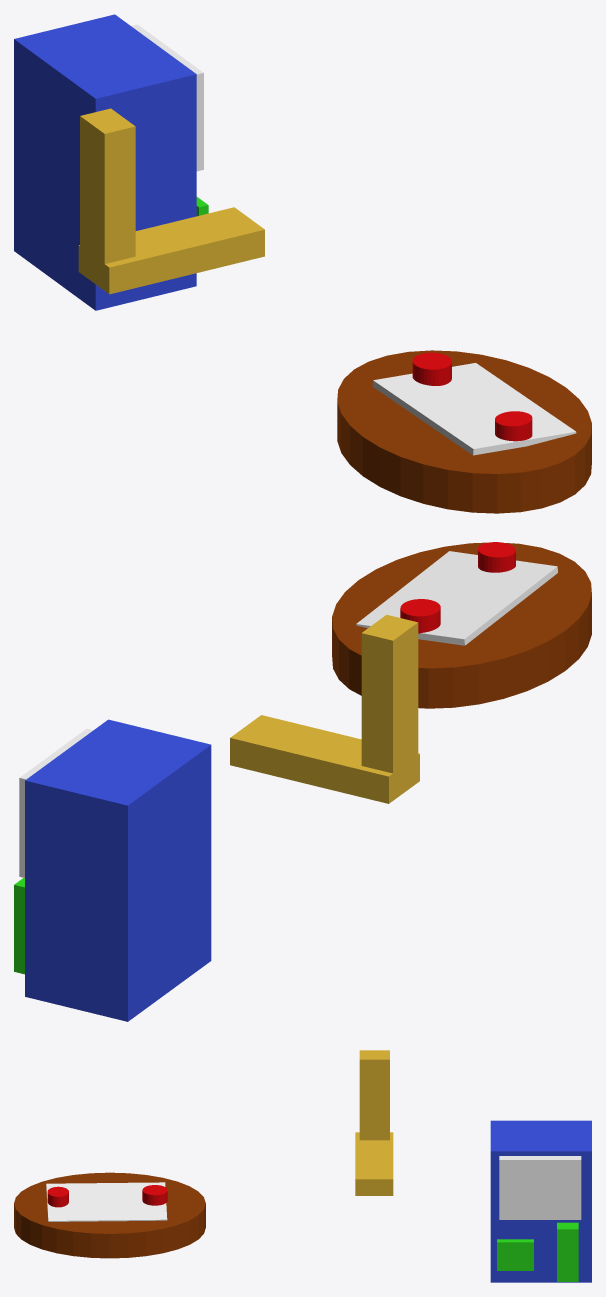
Rendered from Hockey Table Arcade Arden.fbx.
3 views of the same model, one above another, from view 1: azimuth 30°, elevation 25°; view 2: azimuth 150°, elevation 25°; view 3: azimuth 270°, elevation 25° (orthographic). The views are drawn at different scales.
Visible parts, largest first — view 1: Cube.002, Cylinder, Cube.001, Cube.006, Cube, Cube.003, Cylinder.002, Cylinder.001; view 2: Cube.002, Cylinder, Cube.001, Cube, Cube.006, Cube.003, Cylinder.001, Cylinder.002, Cube.004; view 3: Cylinder, Cube.002, Cube.003, Cube.006, Cube, Cube.001, Cube.004, Cube.005, Cylinder.002, Cylinder.001.
Boxes of the visible parts, left/top/right/bottom form: Cube.002: left=14, top=14, right=196, bottom=310; Cylinder: left=337, top=350, right=591, bottom=513; Cube.001: left=78, top=207, right=264, bottom=294; Cube.006: left=372, top=363, right=576, bottom=455; Cube: left=80, top=108, right=135, bottom=263; Cube.003: left=131, top=24, right=203, bottom=171; Cylinder.002: left=412, top=352, right=451, bottom=385; Cylinder.001: left=495, top=411, right=532, bottom=448; Cube.002: left=25, top=719, right=211, bottom=1021; Cylinder: left=332, top=542, right=591, bottom=708; Cube.001: left=230, top=715, right=419, bottom=803; Cube: left=361, top=614, right=418, bottom=773; Cube.006: left=356, top=551, right=557, bottom=645; Cube.003: left=19, top=728, right=93, bottom=877; Cylinder.001: left=478, top=542, right=515, bottom=572; Cylinder.002: left=400, top=599, right=440, bottom=633; Cube.004: left=14, top=878, right=24, bottom=974; Cylinder: left=14, top=1172, right=205, bottom=1258; Cube.002: left=490, top=1120, right=591, bottom=1282; Cube.003: left=499, top=1156, right=581, bottom=1219; Cube.006: left=46, top=1182, right=167, bottom=1221; Cube: left=359, top=1050, right=389, bottom=1140; Cube.001: left=355, top=1132, right=393, bottom=1195; Cube.004: left=557, top=1222, right=578, bottom=1281; Cube.005: left=497, top=1239, right=533, bottom=1270; Cylinder.002: left=142, top=1185, right=167, bottom=1205; Cylinder.001: left=47, top=1186, right=68, bottom=1207.
Size of the model in its own units: 977 by 999 by 3039.
